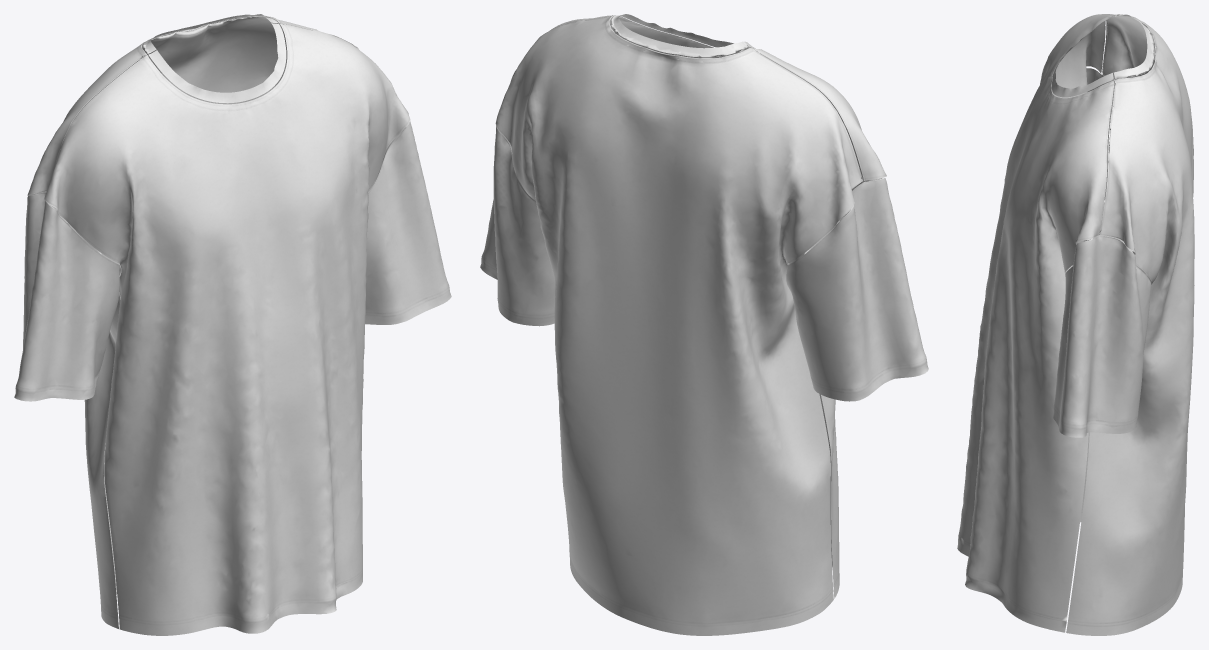
The model's file is T-shirt Barikada White.gltf.
3 renders of one model, left to right at view 1: azimuth 30°, elevation 25°; view 2: azimuth 150°, elevation 25°; view 3: azimuth 270°, elevation 25°, orthographic. The views are drawn at different scales.
Parts seen in each view (by area): view 1: Body_Front, Sleeves_4, Body_Back, Sleeves, Ribbing; view 2: Body_Back, Sleeves_4, Sleeves, Body_Front, Ribbing.001, Ribbing; view 3: Body_Front, Body_Back, Sleeves, Ribbing, Ribbing.001, Sleeves_4, Body_Back_7.
Boxes of the visible parts, x1,y1,x2,y2 form: Body_Front: [44, 23, 410, 635]; Sleeves_4: [14, 192, 120, 401]; Body_Back: [27, 16, 358, 628]; Sleeves: [365, 121, 451, 324]; Ribbing: [148, 23, 286, 103]; Body_Back: [495, 15, 862, 635]; Sleeves_4: [786, 178, 928, 401]; Sleeves: [480, 126, 555, 326]; Body_Front: [550, 15, 886, 598]; Ribbing.001: [611, 15, 749, 57]; Ribbing: [621, 14, 758, 52]; Body_Front: [957, 14, 1114, 632]; Body_Back: [1066, 14, 1194, 635]; Sleeves: [1053, 236, 1151, 437]; Ribbing: [1051, 16, 1113, 97]; Ribbing.001: [1113, 14, 1153, 79]; Sleeves_4: [1086, 68, 1114, 239]; Body_Back_7: [1100, 15, 1156, 233].
Size of the model in its own units: 0.6499 by 0.804 by 0.3153.
7 materials, 7 textured.
